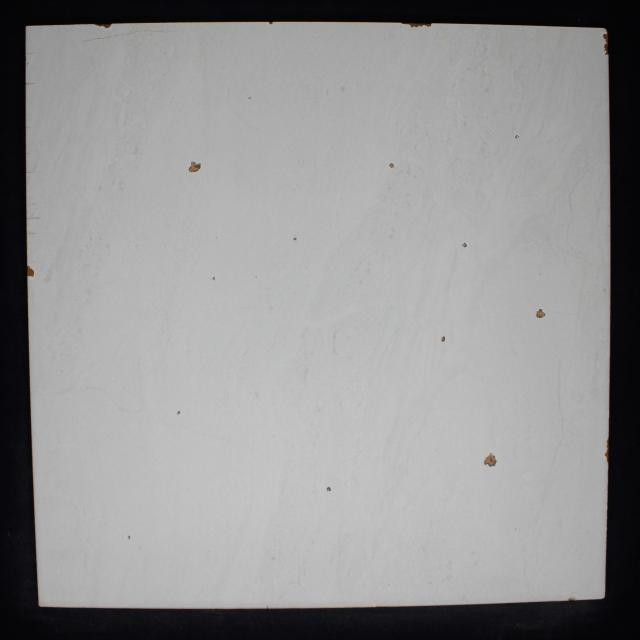edge-chipping: (26, 265, 35, 277), (93, 24, 113, 29), (604, 450, 609, 462), (410, 22, 419, 28), (602, 33, 608, 42), (604, 43, 608, 55), (606, 436, 609, 449), (424, 23, 432, 27), (268, 21, 274, 25), (401, 22, 408, 25), (419, 23, 424, 27)
hole: (484, 452, 497, 467), (188, 160, 201, 173), (536, 309, 546, 318), (388, 162, 394, 168), (326, 486, 332, 492), (462, 242, 467, 248), (441, 336, 445, 342), (515, 134, 519, 139), (212, 276, 215, 281), (177, 411, 181, 414), (128, 535, 130, 540), (294, 238, 298, 240)
line: (122, 30, 176, 36), (83, 34, 122, 42)
